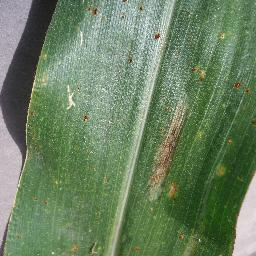Corn_Blight: (143, 94, 195, 202), (22, 64, 49, 131), (81, 0, 146, 24), (66, 238, 102, 256), (209, 159, 236, 181), (63, 79, 78, 117), (231, 79, 253, 103), (189, 65, 217, 81), (170, 229, 198, 243), (120, 50, 134, 70), (150, 27, 164, 46), (221, 136, 241, 148), (216, 28, 230, 41), (127, 244, 145, 254), (82, 111, 93, 127), (243, 118, 256, 126)
